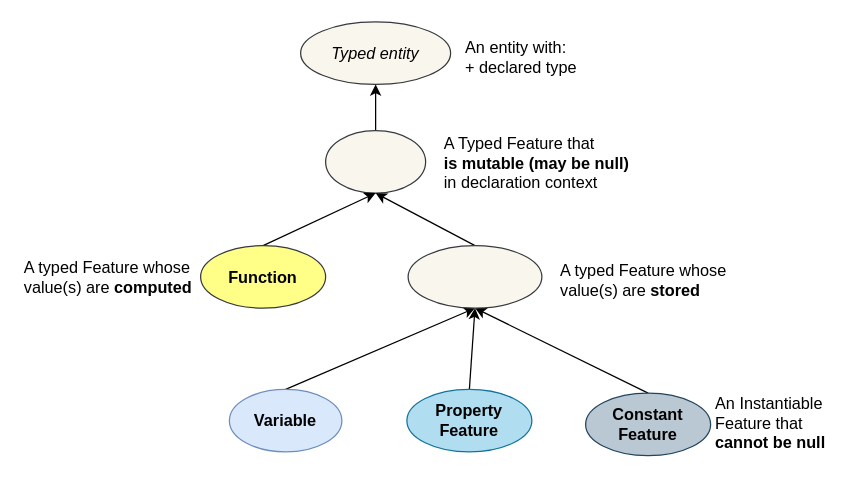
The diagram is 859 pixels wide and 478 high, and some of its shapes have lost their labels. Here are the shapes that lost their labels. From the top down, the box of each, then its label:
(324, 129, 426, 193): Typed Feature
(407, 244, 542, 308): Instantiable Feature
